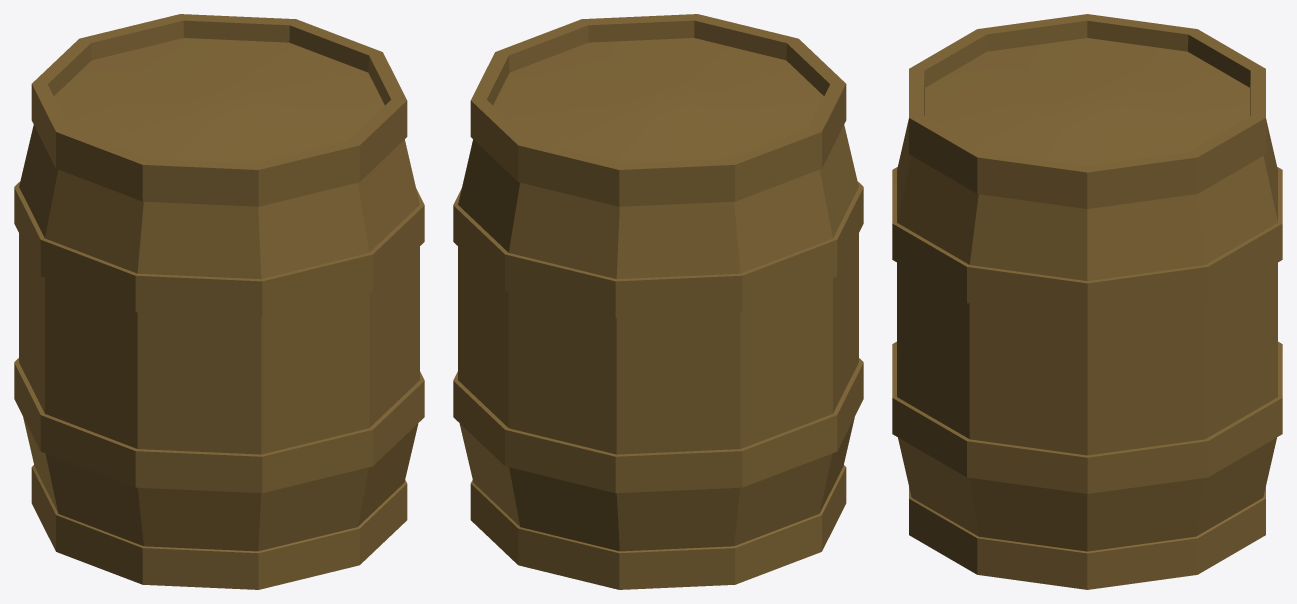
The model's file is barrel.fbx.
The picture shows the model from 3 angles, left to right: view 1: azimuth 30°, elevation 25°; view 2: azimuth 150°, elevation 25°; view 3: azimuth 270°, elevation 25°; orthographic projection.
Parts seen in each view (by area): view 1: Barrel1; view 2: Barrel1; view 3: Barrel1.
Part boxes in pixels (x1,y1,x2,y2): Barrel1: (14,14,424,589); Barrel1: (453,14,863,589); Barrel1: (892,14,1282,589).
Size of the model in its own units: 88.97 by 99.85 by 84.62.
